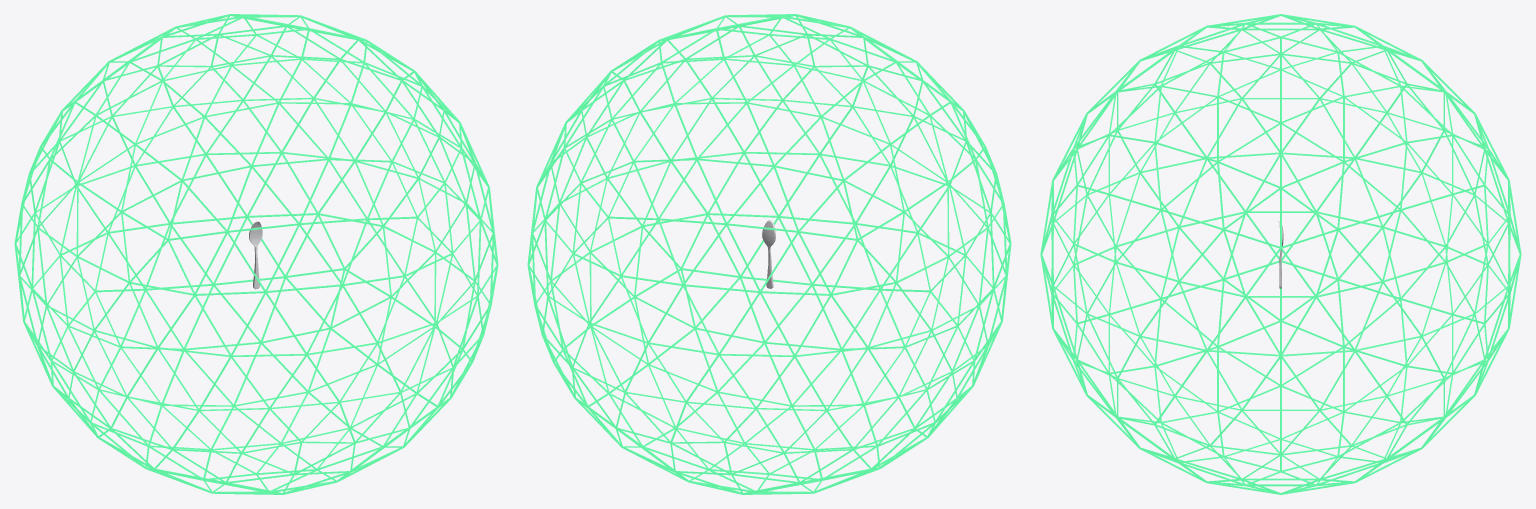
Rendered from fpoon2.glb.
3 renders of one model, left to right at view 1: azimuth 30°, elevation 25°; view 2: azimuth 150°, elevation 25°; view 3: azimuth 270°, elevation 25°, orthographic.
Visible parts, largest first — view 1: Icosphere; view 2: Icosphere; view 3: Icosphere.
Part boxes in pixels (left/top/right/bottom): Icosphere: left=14, top=14, right=498, bottom=494; Icosphere: left=527, top=14, right=1011, bottom=494; Icosphere: left=1040, top=14, right=1521, bottom=494.
Bounding box in the file's own units: 321 × 321 × 321.
2 materials, 1 textured.
